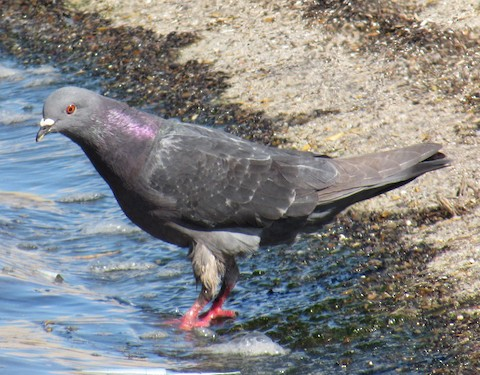pigeon: (30, 80, 467, 334)
